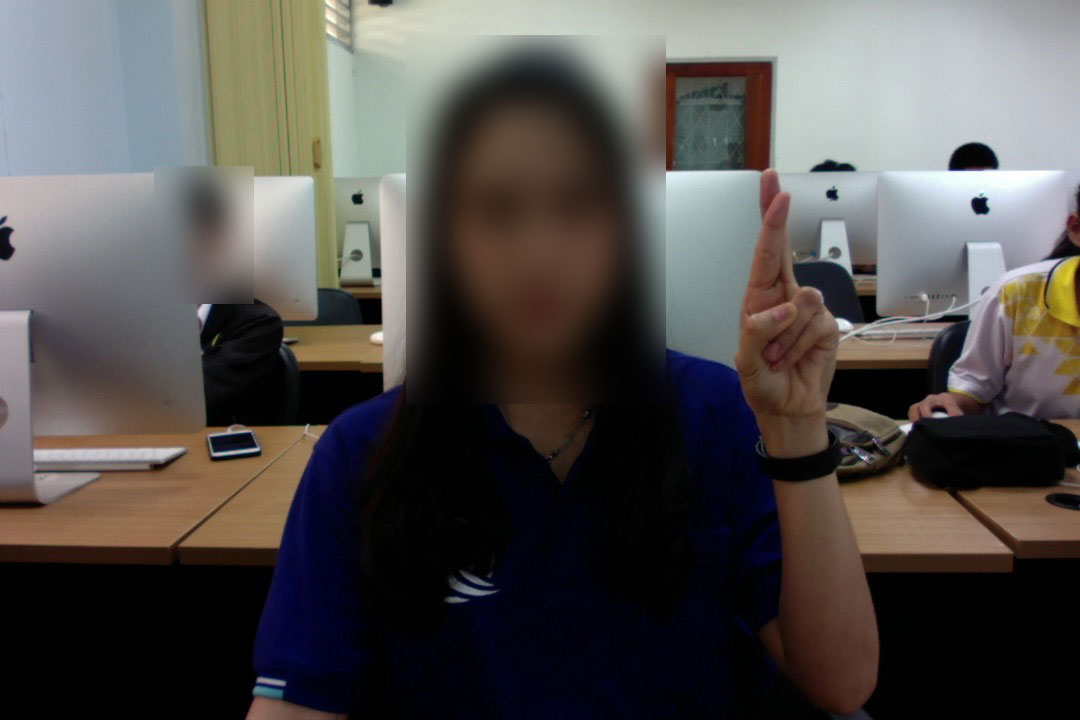rao: (724, 162, 850, 428)
